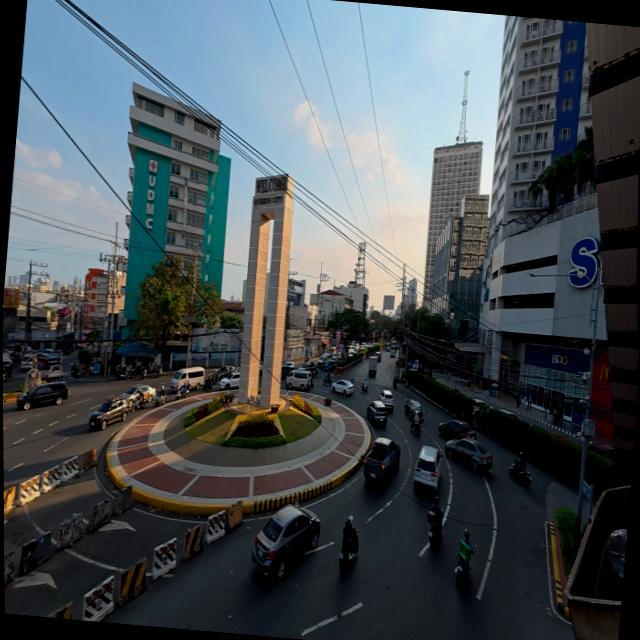bus: (391, 344, 396, 357)
car: (252, 505, 320, 578), (445, 438, 492, 471), (17, 382, 68, 410), (89, 397, 128, 430), (414, 446, 442, 490), (438, 420, 476, 439), (120, 385, 147, 406), (367, 401, 387, 425), (377, 388, 396, 412), (405, 399, 424, 422), (588, 443, 614, 459), (331, 379, 354, 396), (220, 372, 240, 390), (43, 364, 63, 382), (214, 366, 235, 382), (473, 398, 489, 416), (140, 385, 156, 402), (498, 408, 520, 420), (281, 361, 295, 378), (302, 361, 317, 374), (325, 359, 337, 371), (63, 345, 73, 355), (42, 349, 54, 357), (377, 352, 382, 362), (259, 363, 263, 375), (386, 345, 390, 352)
motorcycle: (339, 532, 359, 571), (454, 546, 470, 584), (427, 510, 441, 547), (509, 465, 531, 487), (131, 397, 146, 411), (149, 363, 163, 377), (410, 419, 422, 435), (118, 366, 131, 380), (176, 386, 189, 400), (154, 394, 166, 407), (71, 363, 80, 378), (90, 364, 101, 375), (324, 374, 331, 385), (3, 369, 8, 382), (361, 384, 368, 393), (393, 378, 397, 390)
trucks: (363, 438, 400, 484), (369, 356, 378, 376)
vans: (171, 367, 205, 391), (286, 369, 313, 391), (21, 355, 37, 371), (321, 354, 331, 364)
